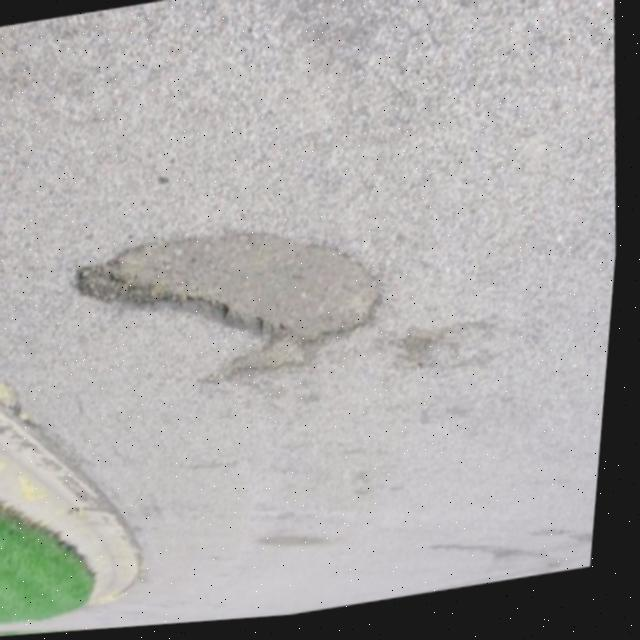Pothole: (44, 171, 419, 446)
